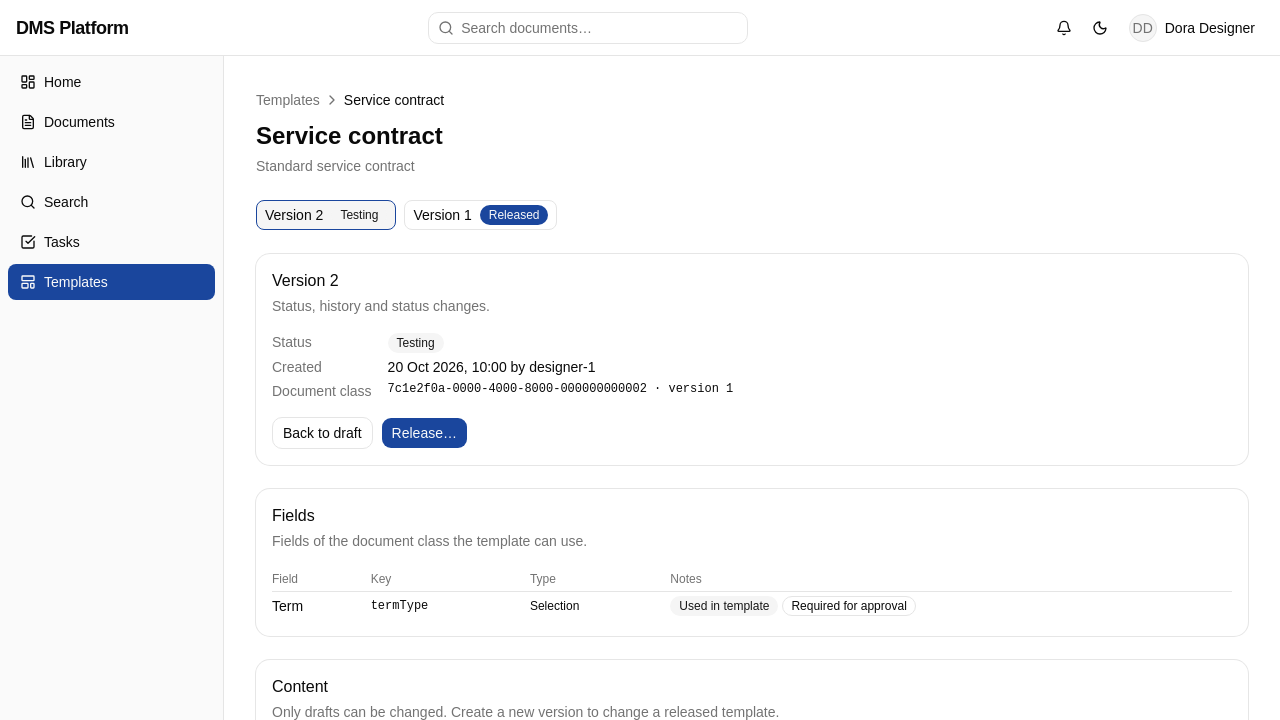
Template page › shows the impact analysis before a release and releases the version
Click the button "Release…" at coordinates (424, 433), box [381,417,468,449]
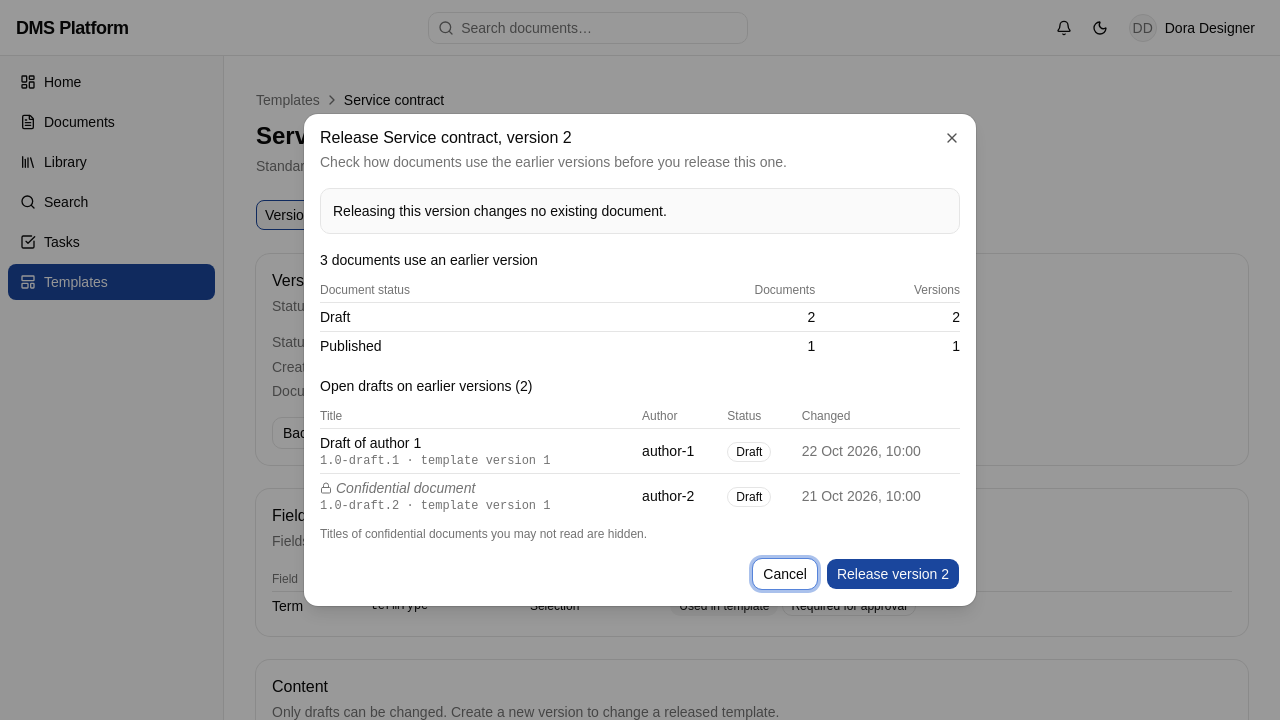
Check: the heading "3 documents use an earlier version" is shown, box [320,252,538,268]
Check: the text "Published" is shown, box [320,332,617,360]
Check: the text "Draft of author 1" is shown, box [320,435,421,451]
Click the button "Release version 2" at coordinates (893, 574), box [826,558,960,590]
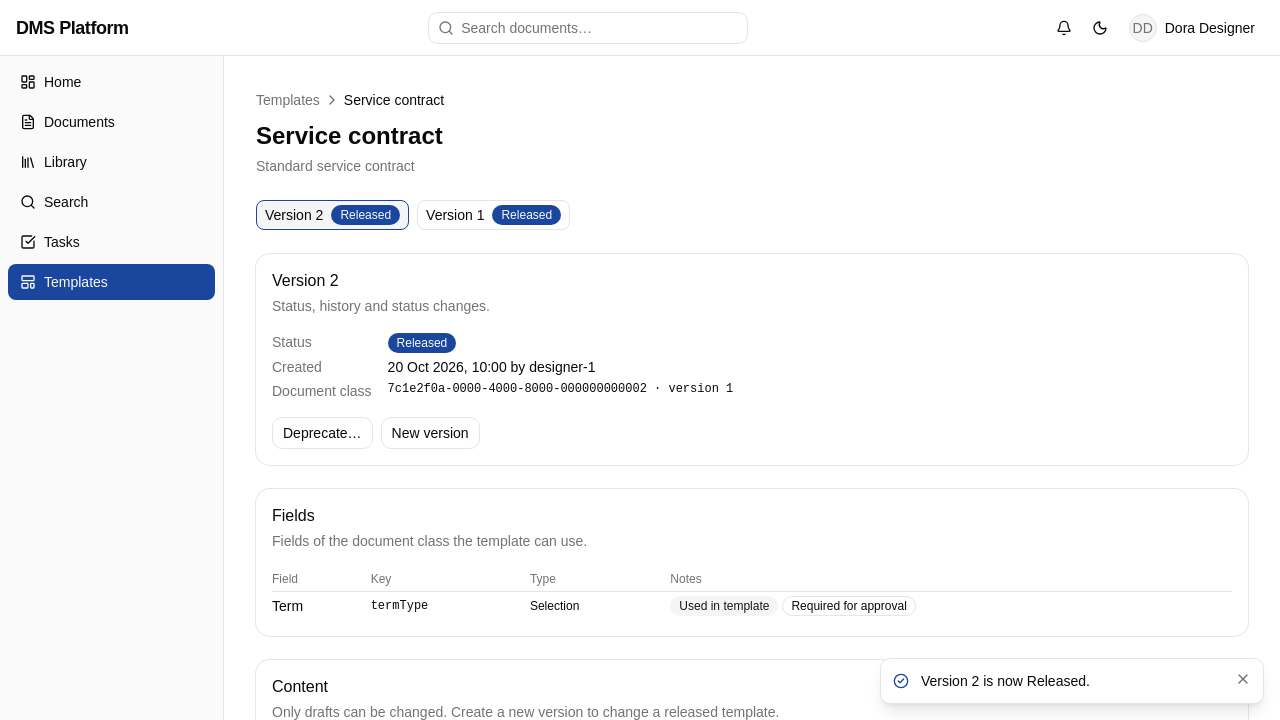
Check: the dialog is gone
Check: the text "Version 2 is now Released." is shown, box [921,673,1090,689]
